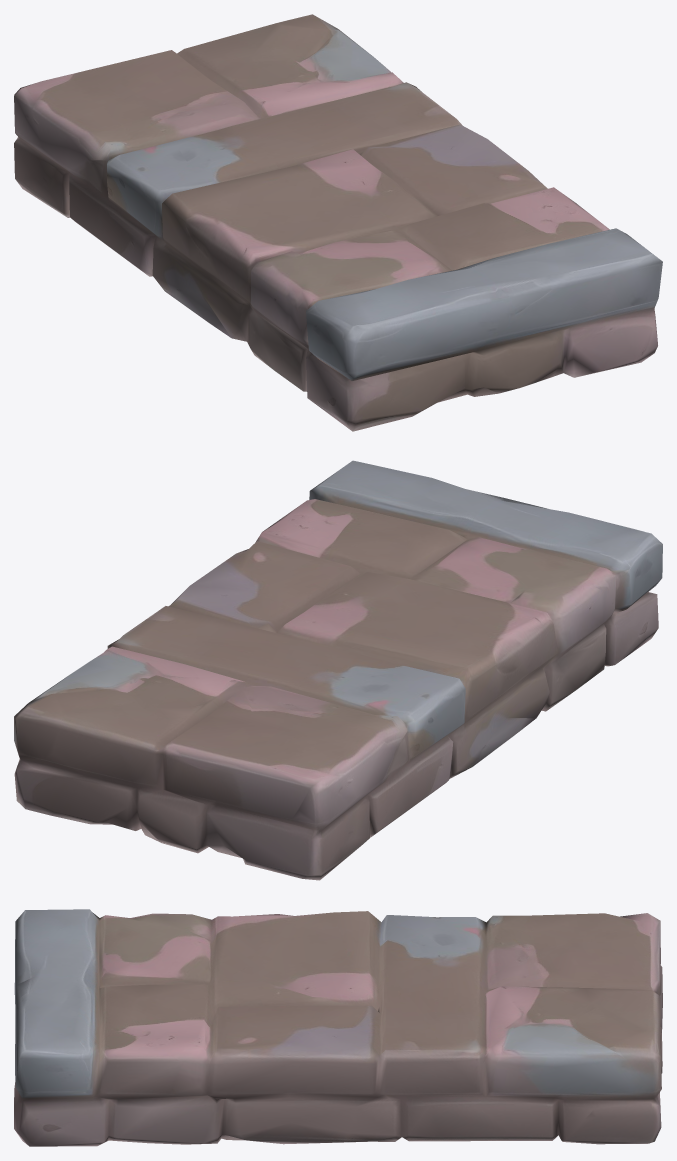
File: mirror-road-slab.glb
3 views of the same model, one above another, from view 1: azimuth 30°, elevation 25°; view 2: azimuth 150°, elevation 25°; view 3: azimuth 270°, elevation 25° (orthographic). The views are drawn at different scales.
Parts seen in each view (by area): view 1: tripo_node_98a6be12-ac27-462c-9e44-6e767c46683d; view 2: tripo_node_98a6be12-ac27-462c-9e44-6e767c46683d; view 3: tripo_node_98a6be12-ac27-462c-9e44-6e767c46683d.
Part boxes in pixels (x1,y1,x2,y2): tripo_node_98a6be12-ac27-462c-9e44-6e767c46683d: (14,14,662,431); tripo_node_98a6be12-ac27-462c-9e44-6e767c46683d: (14,460,662,880); tripo_node_98a6be12-ac27-462c-9e44-6e767c46683d: (14,909,662,1146).
Size of the model in its own units: 0.5268 by 0.1686 by 0.9794.
1 material, 1 textured.
